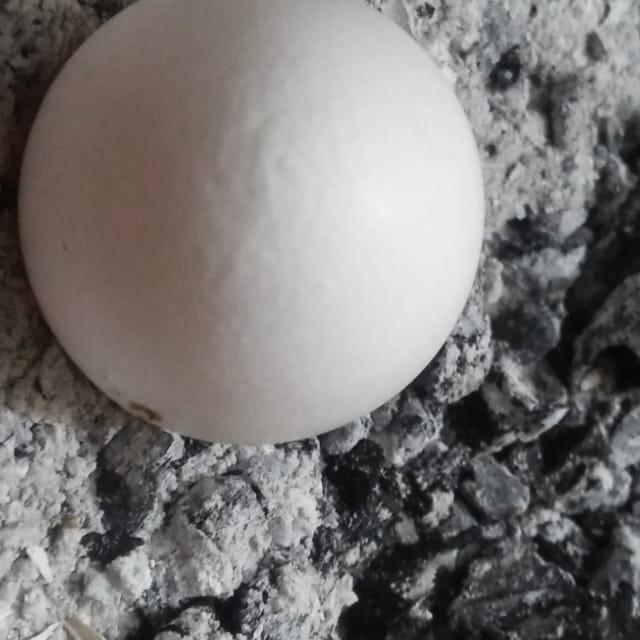egg: (12, 0, 489, 447)
